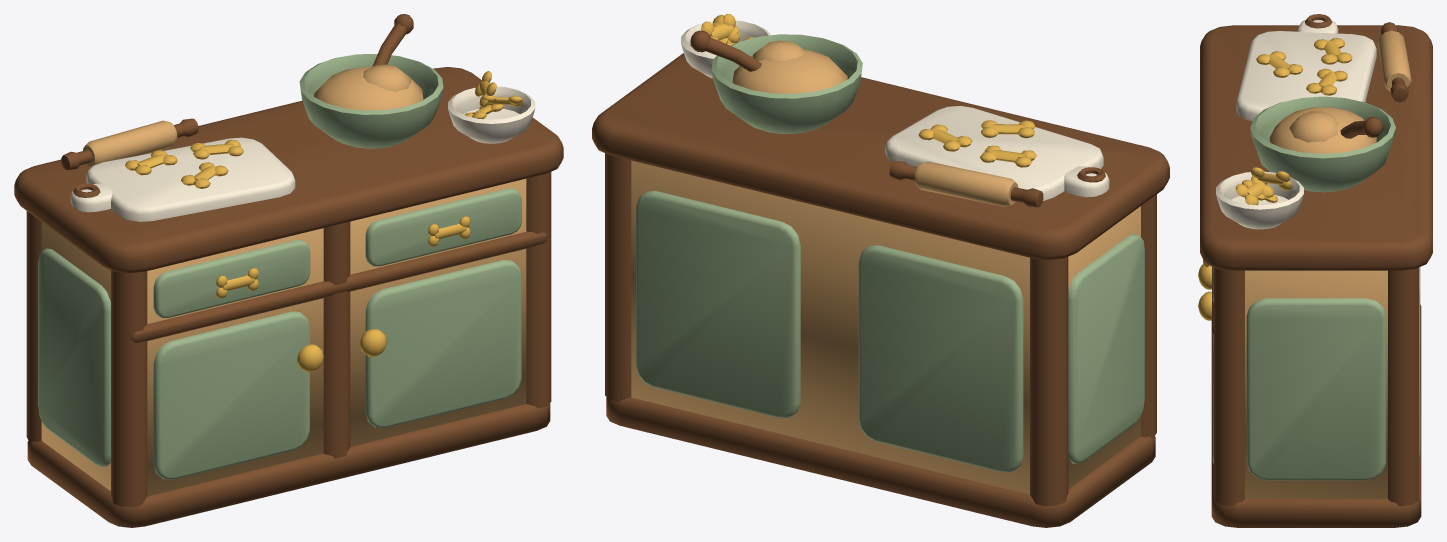
File: ShopKitchenCounter.fbx
The picture shows the model from 3 angles, left to right: view 1: azimuth 30°, elevation 25°; view 2: azimuth 150°, elevation 25°; view 3: azimuth 270°, elevation 25°; orthographic projection. The views are drawn at different scales.
Parts seen in each view (by area): view 1: ShopKitchenCounter; view 2: ShopKitchenCounter; view 3: ShopKitchenCounter.
Boxes of the visible parts, bbox=[...] form: ShopKitchenCounter: bbox=[14, 14, 563, 527]; ShopKitchenCounter: bbox=[592, 14, 1169, 527]; ShopKitchenCounter: bbox=[1198, 14, 1432, 527].
Bounding box in the file's own units: 1.6 × 1.24 × 0.706.
